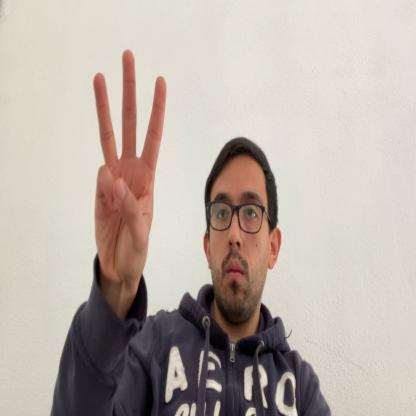W: (94, 49, 166, 291)
